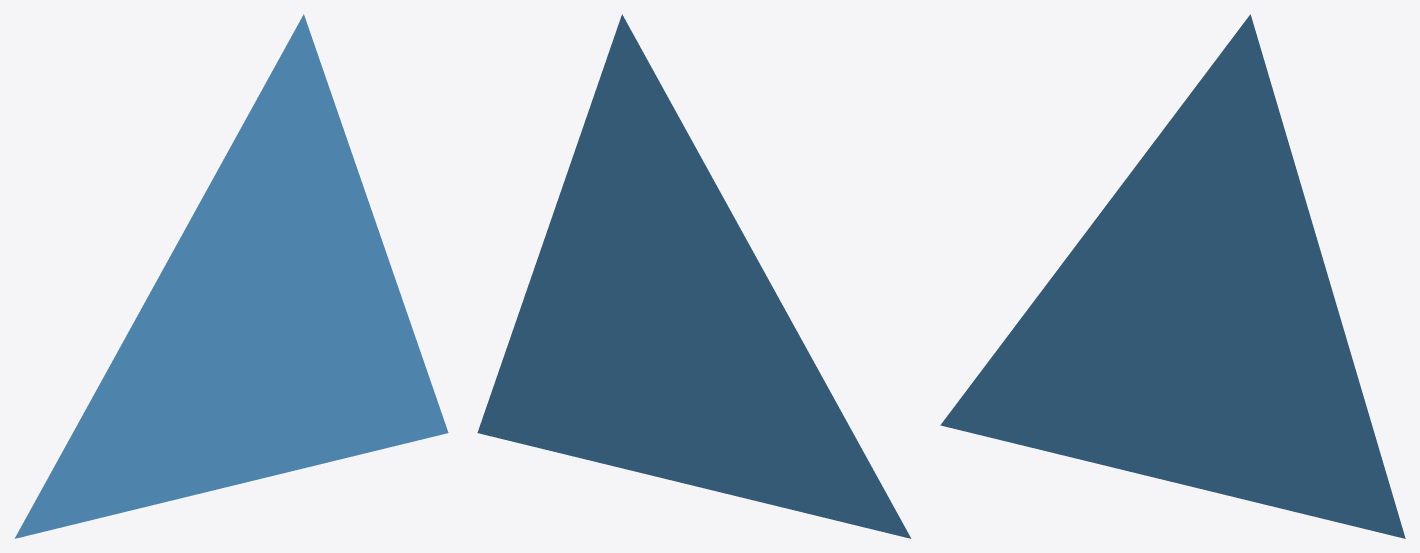
Rendered from minimal-pbr.gltf.
The picture shows the model from 3 angles, left to right: view 1: azimuth 30°, elevation 25°; view 2: azimuth 150°, elevation 25°; view 3: azimuth 330°, elevation 25°; orthographic projection. The views are drawn at different scales.
Parts seen in each view (by area): view 1: Pinned PBR triangle; view 2: Pinned PBR triangle; view 3: Pinned PBR triangle.
Boxes of the visible parts, x1,y1,x2,y2 form: Pinned PBR triangle: (14,14,448,538); Pinned PBR triangle: (477,14,911,538); Pinned PBR triangle: (940,14,1405,538).
Bounding box in the file's own units: 1.5 × 1.5 × 0.
